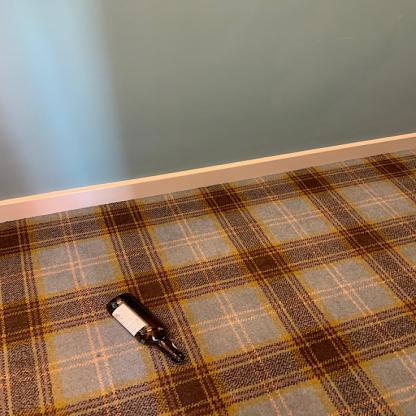trash: (106, 289, 189, 364)
